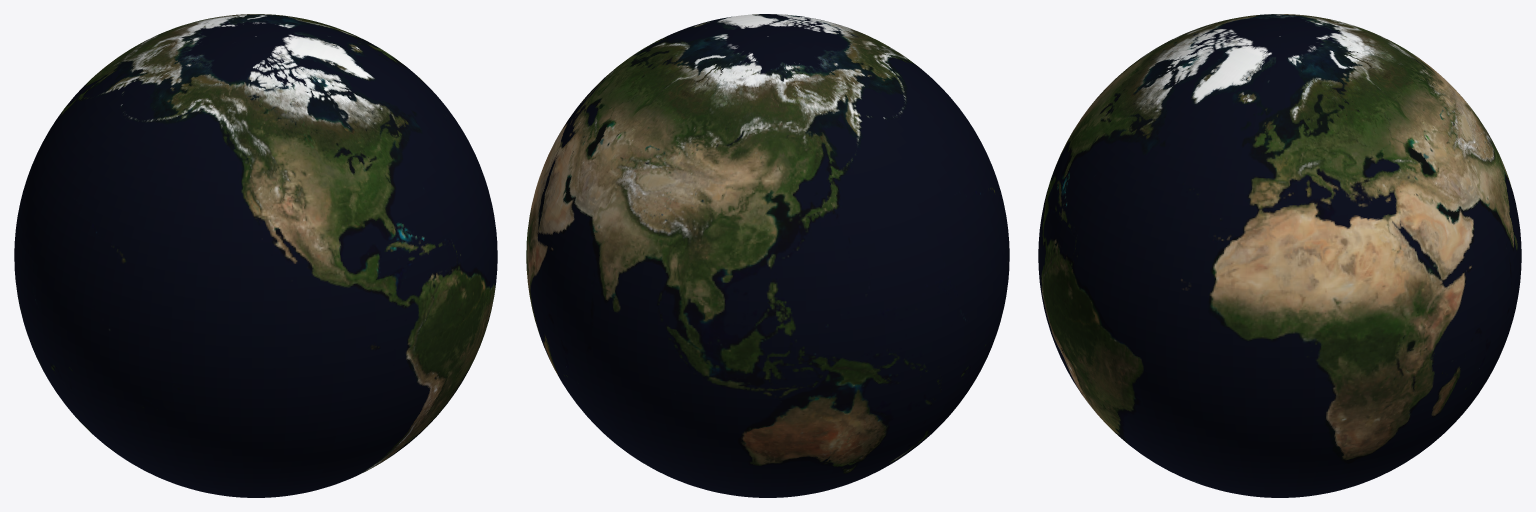
File: earth.glb
3 views of the same model, side by side, from view 1: azimuth 30°, elevation 25°; view 2: azimuth 150°, elevation 25°; view 3: azimuth 270°, elevation 25° (orthographic).
Visible parts, largest first — view 1: Sphere; view 2: Sphere; view 3: Sphere.
Part boxes in pixels (<box>): Sphere: <box>14,14,497,497</box>; Sphere: <box>526,14,1009,497</box>; Sphere: <box>1038,14,1521,497</box>.
Bounding box in the file's own units: 1.99 × 2 × 1.99.
Materials: 1 (1 with a texture image).
